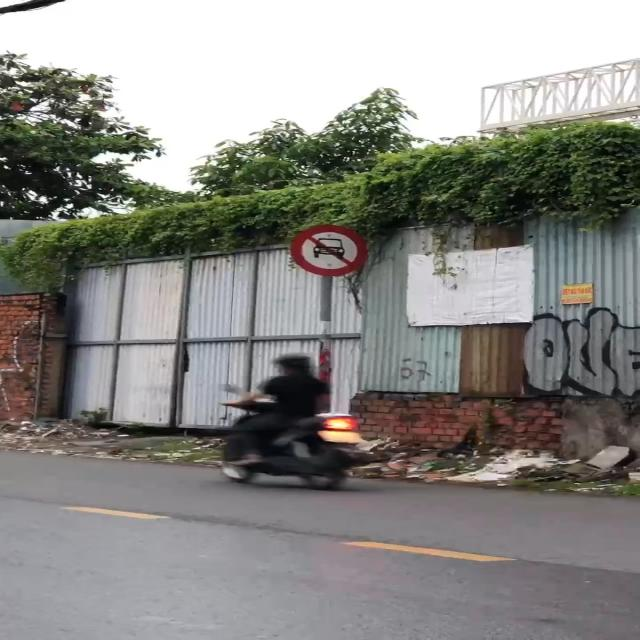Bien bao cam xe oto: (286, 223, 374, 278)
